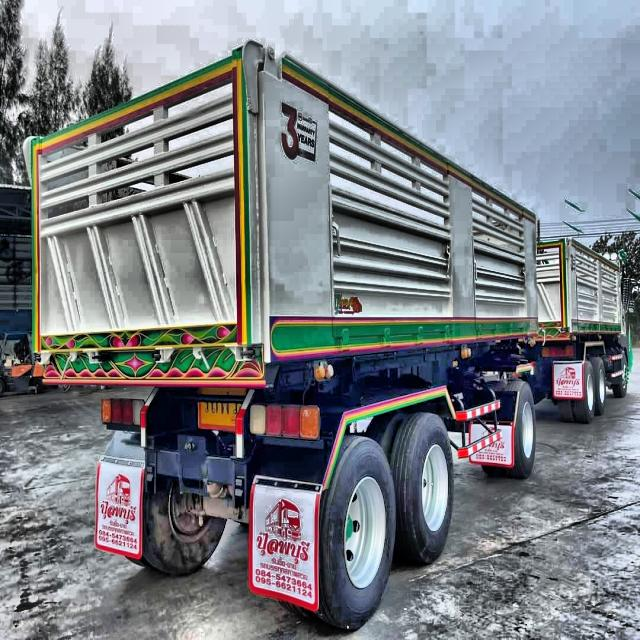trailer: (24, 30, 640, 636)
